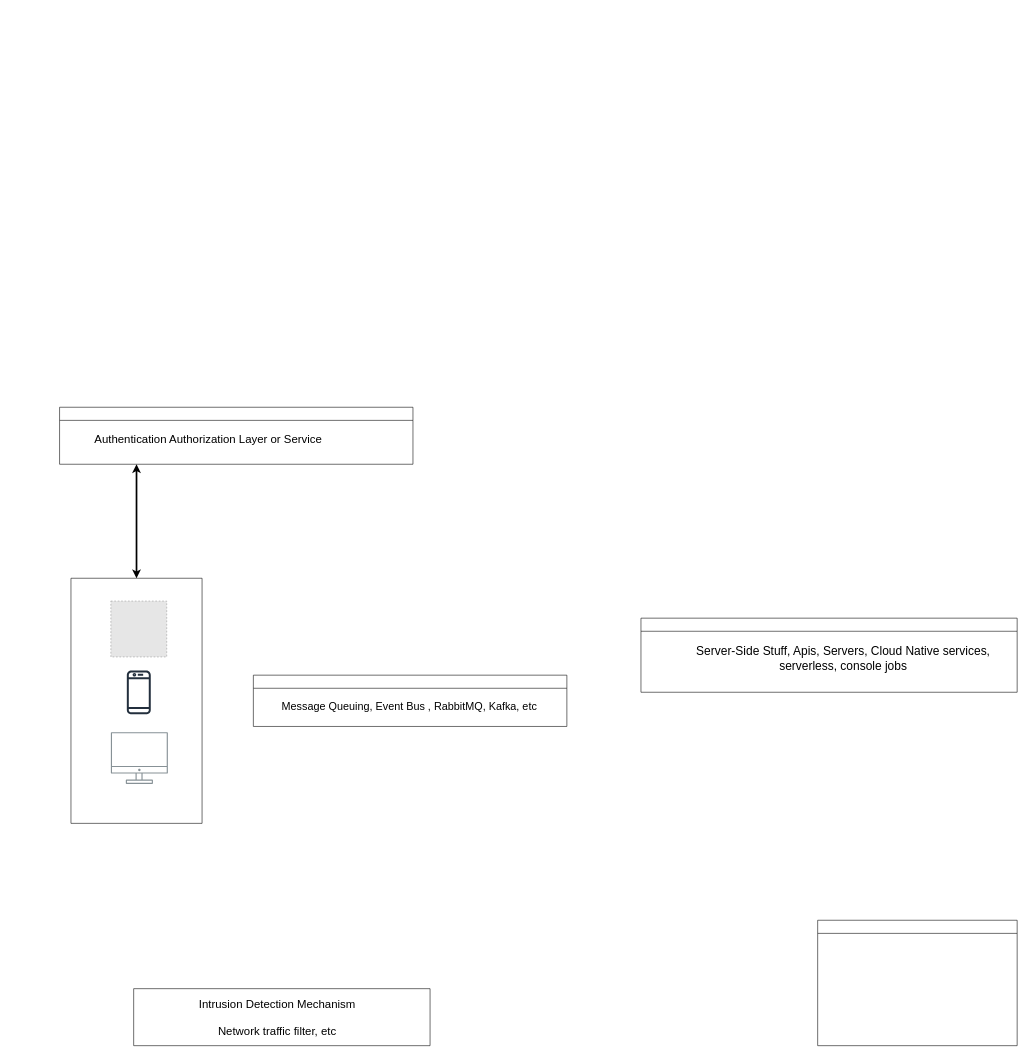
Image size: 1027x1056. Some labels were removed from this diagram. Grey dashed boxes stand in for pictures. The centre of each missing label's shape, as x and y in pixels:
desktop: (139,758)
Persistence and Storage: (917,983)
